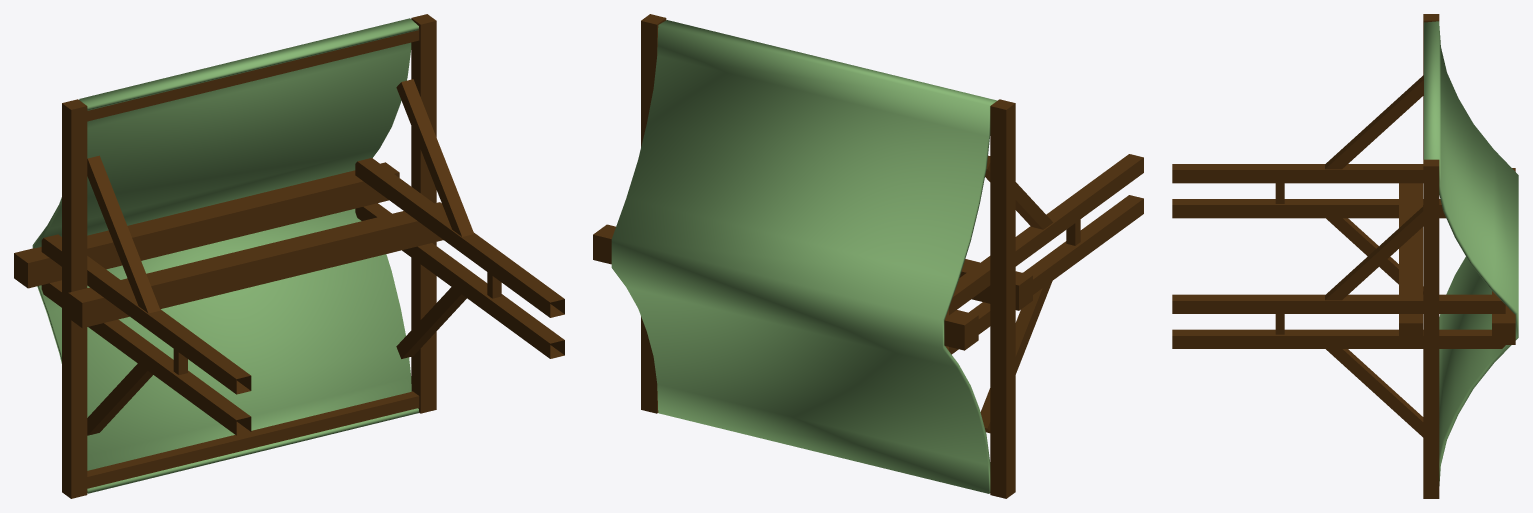
Rendered from Market_Dual_Stall.fbx.
3 renders of one model, left to right at view 1: azimuth 30°, elevation 25°; view 2: azimuth 150°, elevation 25°; view 3: azimuth 270°, elevation 25°, orthographic. The views are drawn at different scales.
Visible parts, largest first — view 1: Plane.006; view 2: Plane.006; view 3: Plane.006.
Part boxes in pixels (x1=…): Plane.006: x1=14, y1=14, x2=564, y2=498; Plane.006: x1=593, y1=14, x2=1143, y2=498; Plane.006: x1=1172, y1=14, x2=1518, y2=498.
Bounding box in the file's own units: 948 × 948 × 895.
